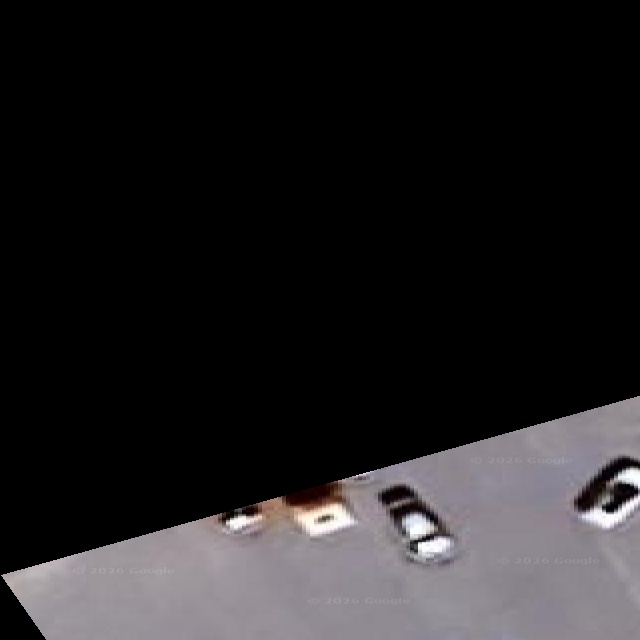car: (377, 484, 455, 563), (573, 455, 639, 527), (283, 482, 355, 536), (216, 504, 263, 532), (344, 472, 375, 484)
